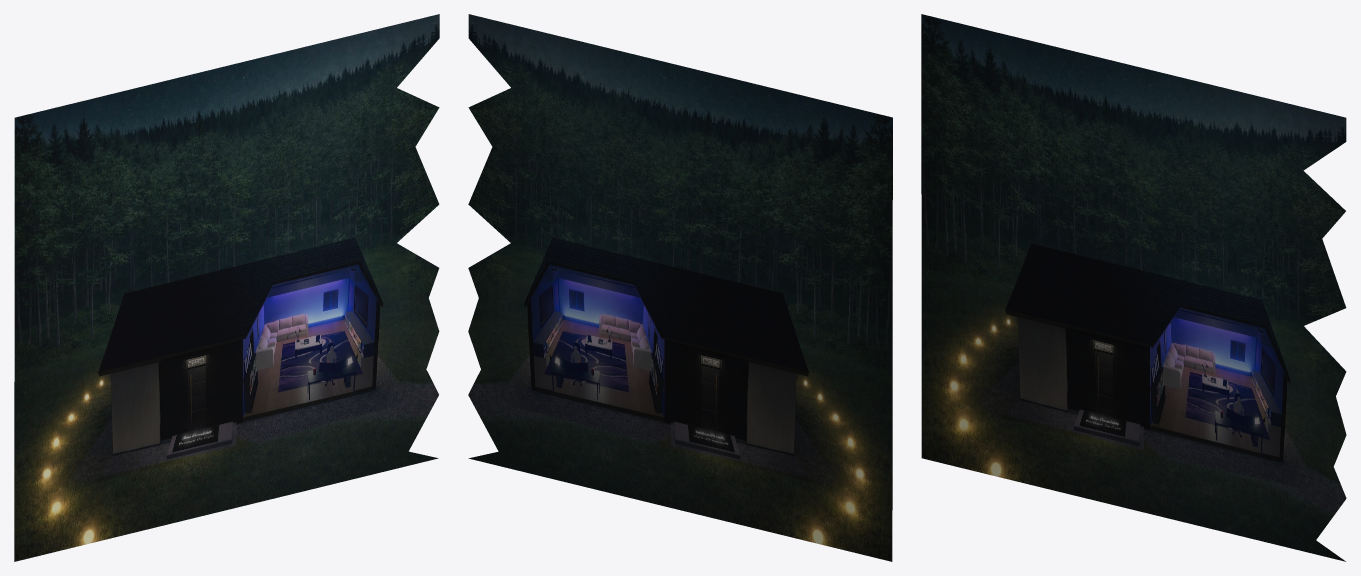
Rendered from Night.glb.
3 renders of one model, left to right at view 1: azimuth 30°, elevation 25°; view 2: azimuth 150°, elevation 25°; view 3: azimuth 330°, elevation 25°, orthographic.
Parts seen in each view (by area): view 1: Night; view 2: Night; view 3: Night.
Boxes of the visible parts, box(x1,y1,x2,y2) form: Night: box(14, 14, 439, 561); Night: box(468, 14, 892, 561); Night: box(921, 14, 1346, 561).
Size of the model in its own units: 7.93 by 7.93 by 0.0155.
Materials: 1 (1 with a texture image).
